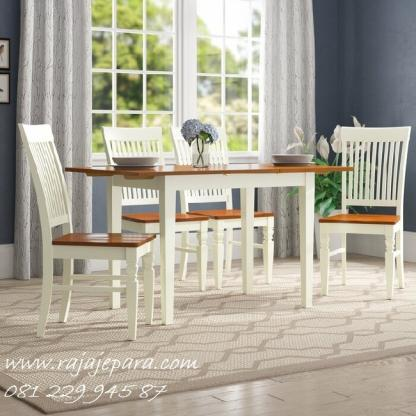Dining Table: (10, 115, 416, 352)
